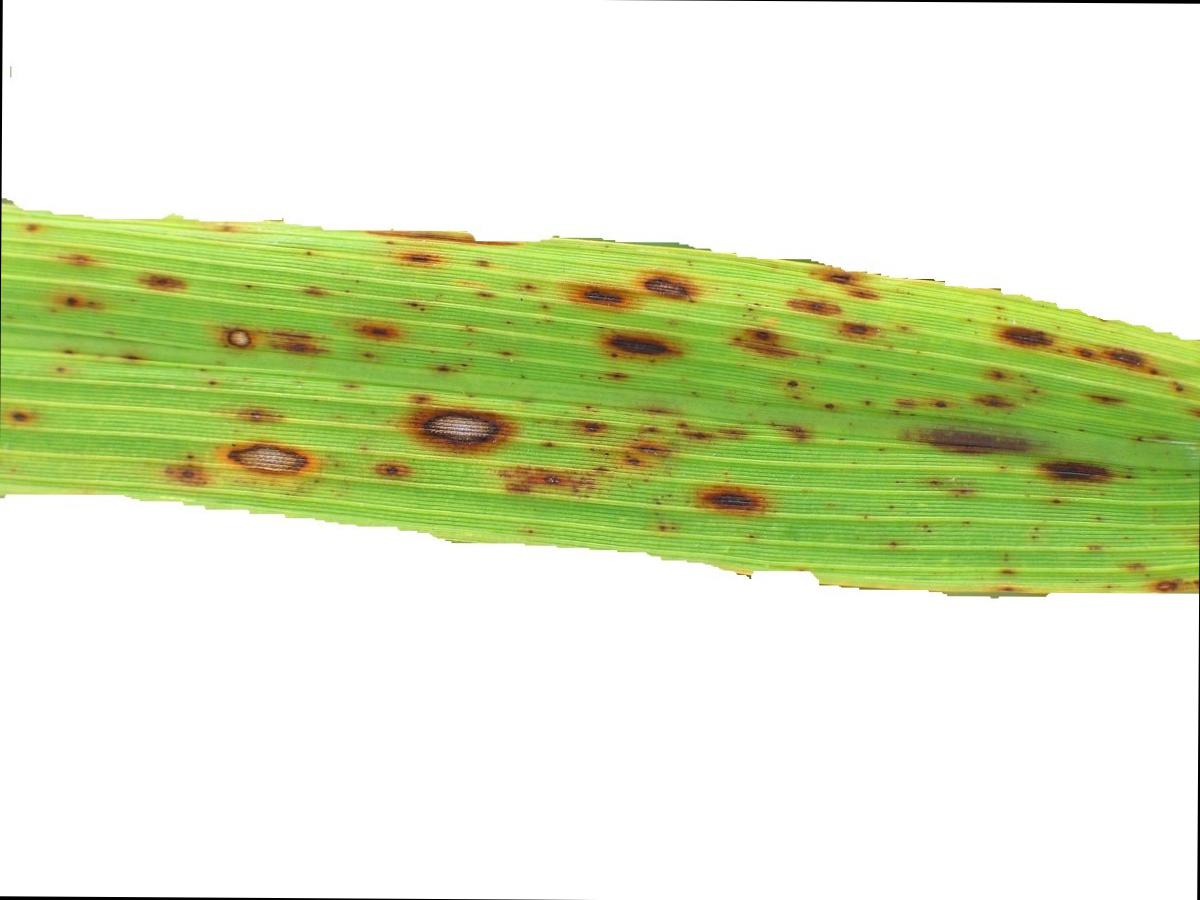brown_spot: (163, 234, 920, 518)
